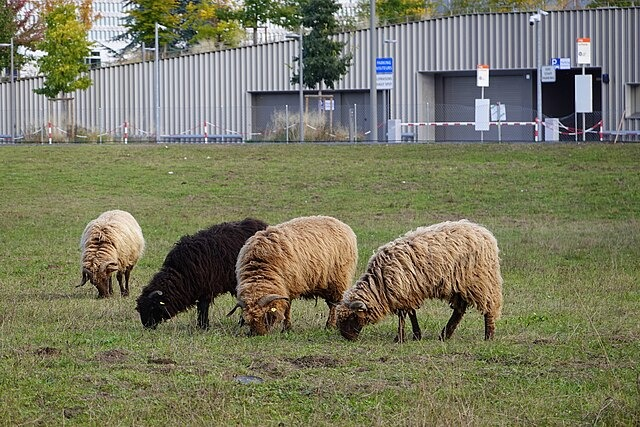grazing: (328, 221, 502, 336), (234, 213, 362, 338), (138, 218, 270, 330), (78, 207, 139, 293)
